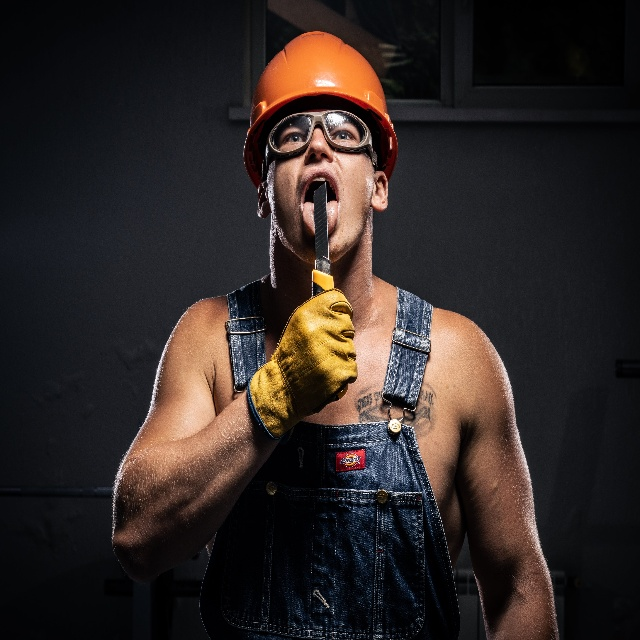Gafas: (261, 107, 378, 180)
Guantes: (245, 288, 360, 439)
